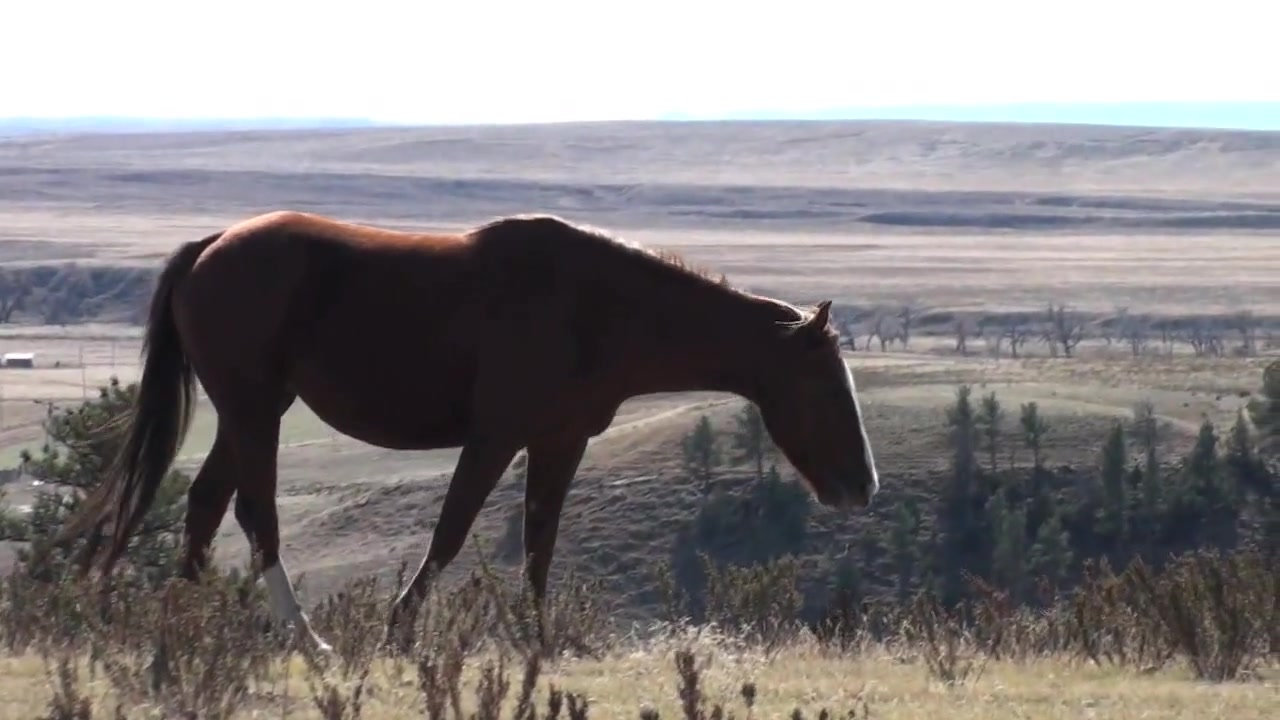horse: (54, 211, 880, 661)
